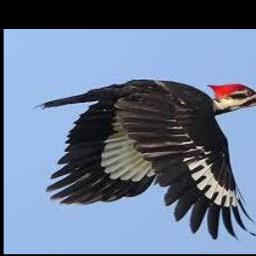Woodpecker: (32, 78, 256, 239)
